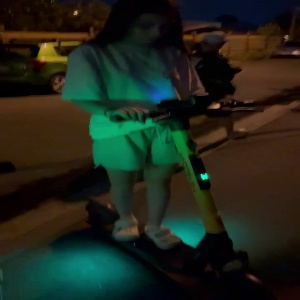human on a scooter: (56, 3, 269, 296)
